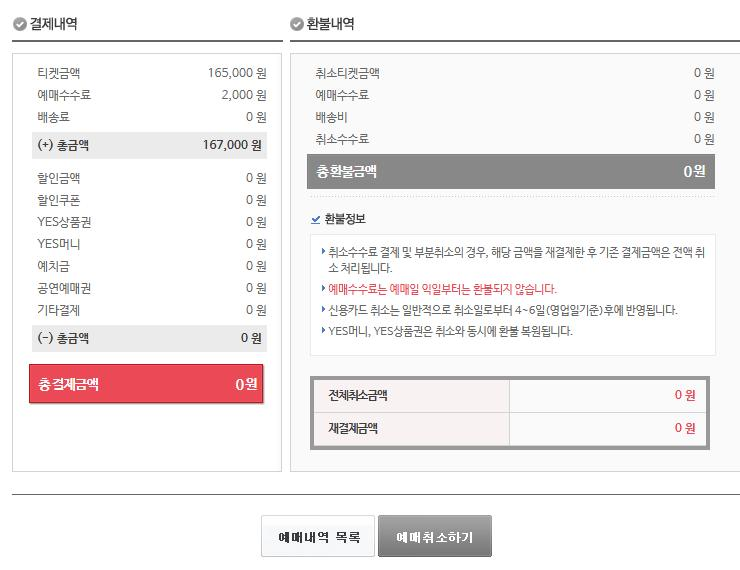button: (31, 364, 261, 403), (377, 518, 495, 560), (263, 516, 373, 560)
